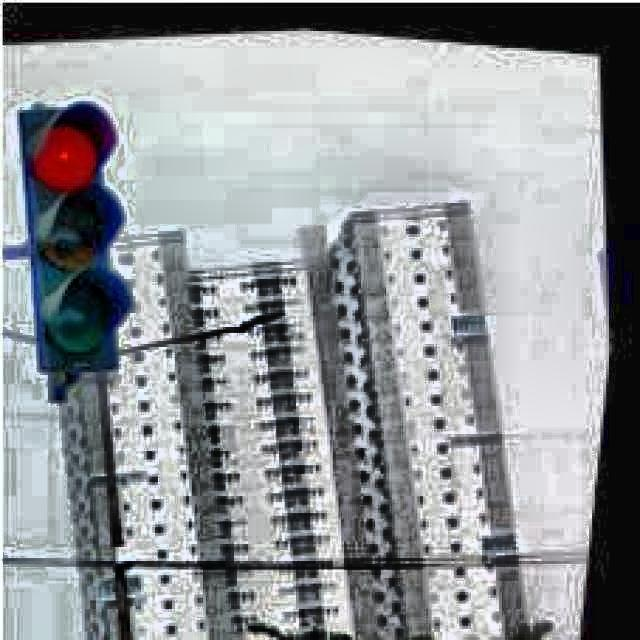red: (20, 109, 123, 369)
